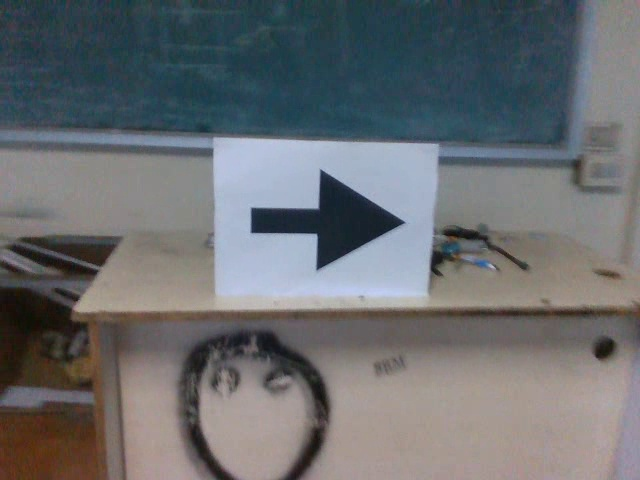Right: (238, 155, 411, 280)
